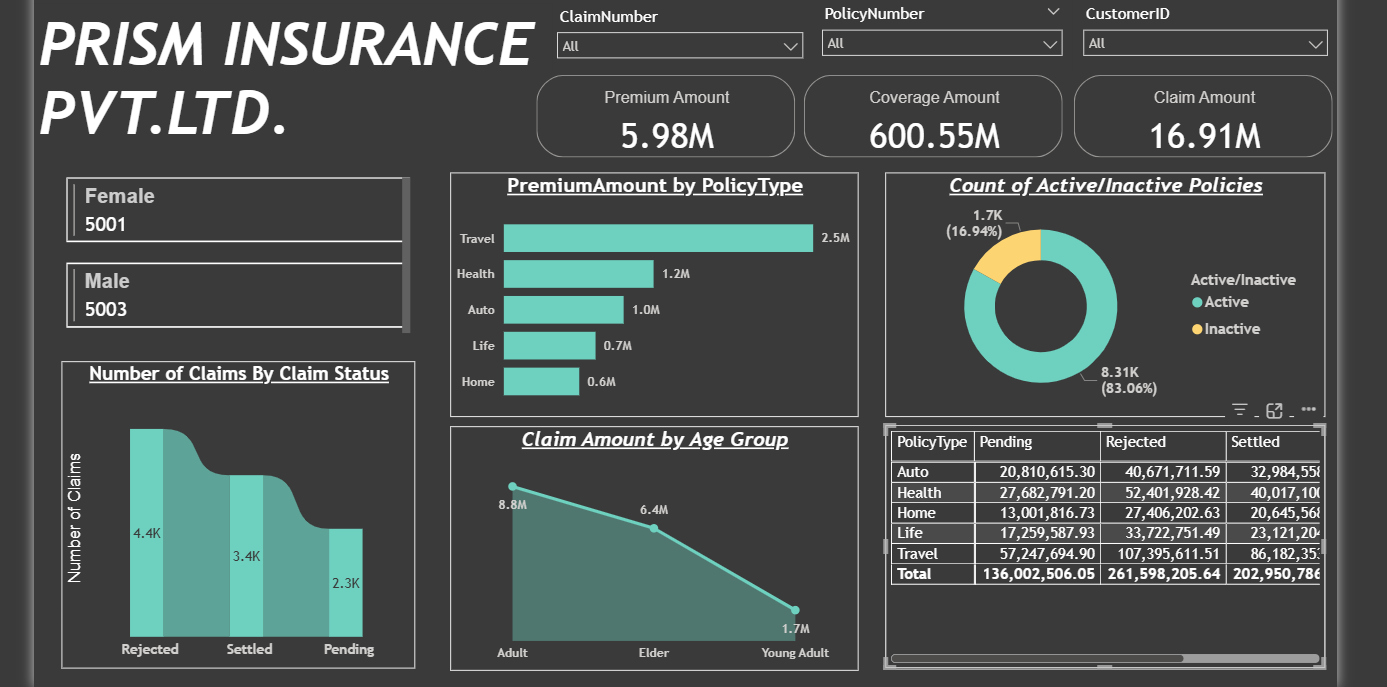

The page's visual inventory and layout, read from the dashboard file:
{"tool":"powerbi","page":{"name":"Page 1","canvas":[1280,720],"ordinal":0},"visuals":[{"type":"slicer","fields":{"Values":["InsuranceData.PolicyNumber"]},"box":[763,42.5,256.6,81],"z":0},{"type":"slicer","fields":{"Values":["InsuranceData.ClaimNumber"]},"box":[503.6,45.3,262.1,78.2],"z":1000},{"type":"slicer","fields":{"Values":["InsuranceData.CustomerID"]},"box":[1019.6,42.5,260.7,81],"z":2000},{"type":"textbox","box":[0,48,509.1,156.4],"z":2001},{"type":"cardVisual","fields":{"Data":["Sum(InsuranceData.PremiumAmount)"]},"box":[488.5,112.5,264.8,91.9],"z":2002},{"type":"cardVisual","fields":{"Data":["Sum(InsuranceData.CoverageAmount)"]},"box":[750.6,112.5,264.8,91.9],"z":2003},{"type":"cardVisual","fields":{"Data":["Sum(InsuranceData.ClaimAmount)"]},"box":[1015.4,112.5,264.8,91.9],"z":2004},{"type":"multiRowCard","fields":{"Values":["InsuranceData.Gender","CountNonNull(InsuranceData.Gender)"]},"box":[27.4,214.1,347.2,174.3],"z":2005},{"type":"ribbonChart","title":"Number of Claims   By Claim Status","fields":{"Category":["InsuranceData.ClaimStatus"],"Y":["CountNonNull(InsuranceData.ClaimStatus)"]},"box":[27.4,399.3,347.2,301.9],"z":2006},{"type":"barChart","title":"PremiumAmount by PolicyType","fields":{"Category":["InsuranceData.PolicyType"],"Y":["Sum(InsuranceData.PremiumAmount)"]},"box":[408.9,214.1,400.7,240.1],"z":2007},{"type":"lineChart","title":"Claim Amount by Age Group","fields":{"Category":["InsuranceData.Age Group"],"Y":["Sum(InsuranceData.ClaimAmount)"]},"box":[408.9,462.4,400.7,240.1],"z":2008},{"type":"donutChart","title":"Count of Active/Inactive Policies","fields":{"Category":["InsuranceData.Active/Inactive"],"Y":["CountNonNull(InsuranceData.Active/Inactive)"]},"box":[835.7,214.1,432.2,240.1],"z":2009},{"type":"pivotTable","fields":{"Values":["Sum(InsuranceData.CoverageAmount)"],"Columns":["InsuranceData.ClaimStatus"],"Rows":["InsuranceData.PolicyType"]},"box":[835.7,461.1,432.2,240.1],"z":2010},{"type":"actionButton","box":[0,0,100,40],"z":2011}]}

Visuals, with their boxes on the page's 1280x720 design canvas (x1, y1, x2, y2). These are canvas units, not pixel positions in the 1387x687 screenshot, which may show the page scaled, cropped or inside an application window:
slicer - InsuranceData.PolicyNumber: bbox=(763, 42, 1020, 124)
slicer - InsuranceData.ClaimNumber: bbox=(504, 45, 766, 124)
slicer - InsuranceData.CustomerID: bbox=(1020, 42, 1280, 124)
textbox: bbox=(0, 48, 509, 204)
cardVisual - Sum(InsuranceData.PremiumAmount): bbox=(488, 112, 753, 204)
cardVisual - Sum(InsuranceData.CoverageAmount): bbox=(751, 112, 1015, 204)
cardVisual - Sum(InsuranceData.ClaimAmount): bbox=(1015, 112, 1280, 204)
multiRowCard - InsuranceData.Gender x CountNonNull(InsuranceData.Gender): bbox=(27, 214, 375, 388)
"Number of Claims   By Claim Status" ribbonChart: bbox=(27, 399, 375, 701)
"PremiumAmount by PolicyType" barChart: bbox=(409, 214, 810, 454)
"Claim Amount by Age Group" lineChart: bbox=(409, 462, 810, 702)
"Count of Active/Inactive Policies" donutChart: bbox=(836, 214, 1268, 454)
pivotTable - Sum(InsuranceData.CoverageAmount) x InsuranceData.ClaimStatus: bbox=(836, 461, 1268, 701)
actionButton: bbox=(0, 0, 100, 40)
